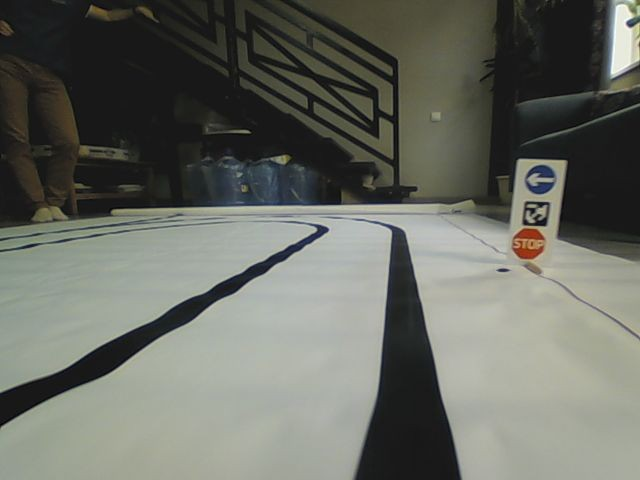Stop: (511, 228, 549, 261)
